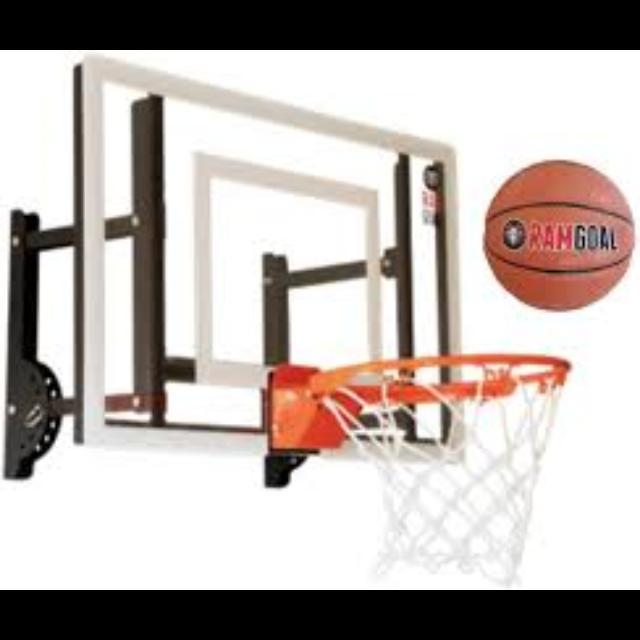basketball: (482, 162, 632, 312)
rim: (318, 350, 574, 590)
